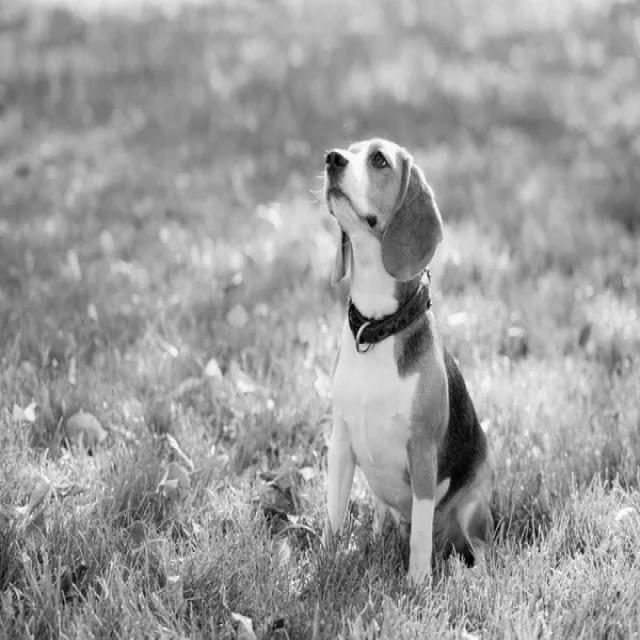Animal: (324, 138, 496, 586)
